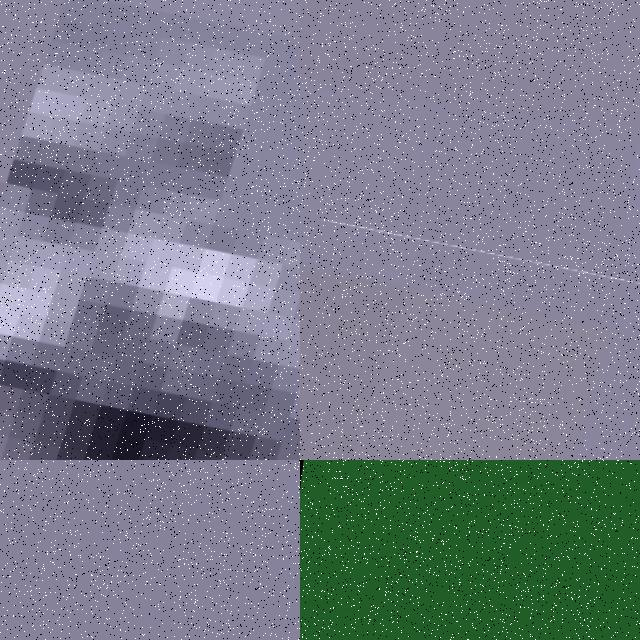drone: (0, 0, 300, 460), (300, 191, 640, 460), (300, 460, 640, 640)
